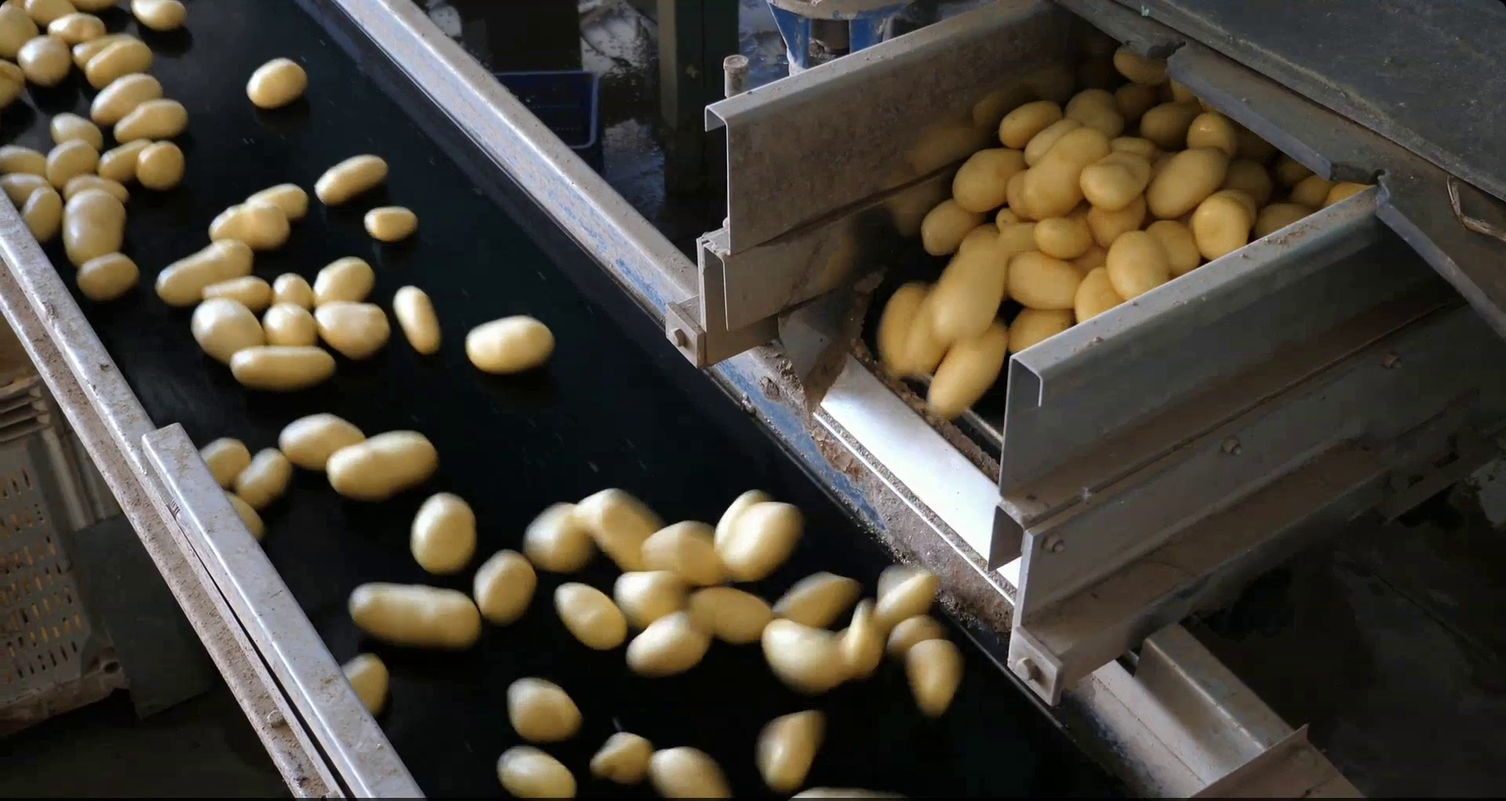potato: (755, 596, 901, 695), (342, 577, 486, 650), (920, 315, 1013, 428), (566, 482, 672, 575), (319, 426, 446, 502), (714, 487, 806, 588), (924, 244, 1013, 347), (1019, 126, 1111, 218), (151, 235, 261, 310), (1144, 139, 1230, 226), (751, 707, 834, 793), (461, 309, 560, 379), (406, 489, 479, 582), (641, 517, 731, 591), (945, 142, 1030, 217), (873, 274, 929, 387), (520, 496, 598, 576), (624, 608, 714, 677), (684, 583, 779, 647), (188, 294, 269, 368), (500, 675, 585, 745), (275, 412, 372, 473), (549, 580, 630, 653), (767, 568, 867, 627), (642, 740, 738, 801), (58, 187, 129, 269), (1003, 246, 1088, 314), (489, 740, 583, 801), (1102, 226, 1173, 306), (470, 544, 540, 625), (227, 340, 337, 391), (908, 635, 969, 724), (1077, 146, 1155, 214), (312, 297, 392, 363), (1192, 187, 1260, 264), (610, 567, 690, 632), (871, 563, 947, 630), (85, 69, 173, 126), (311, 150, 396, 208), (202, 198, 292, 252), (914, 195, 988, 260), (904, 273, 946, 382), (585, 724, 654, 789), (336, 649, 395, 723), (231, 444, 293, 513), (83, 38, 158, 95), (1084, 190, 1154, 251), (310, 252, 380, 312), (69, 251, 145, 306), (243, 54, 313, 112), (110, 96, 191, 146), (390, 282, 443, 357), (1071, 262, 1130, 328), (1145, 212, 1202, 278), (993, 96, 1067, 146), (1060, 85, 1124, 142), (40, 134, 104, 190), (198, 431, 253, 491), (1020, 116, 1087, 165), (1005, 308, 1076, 354), (261, 297, 320, 351), (242, 180, 311, 226), (1030, 213, 1096, 261), (1135, 95, 1197, 146), (90, 135, 155, 183), (67, 31, 144, 71), (133, 137, 187, 193), (16, 32, 71, 85), (197, 273, 275, 310), (17, 183, 64, 243), (221, 487, 268, 546), (1107, 43, 1170, 87), (47, 107, 105, 153), (1183, 109, 1245, 152), (783, 782, 919, 801), (2, 3, 45, 63), (264, 267, 315, 316), (60, 171, 133, 205), (361, 204, 420, 245), (886, 614, 948, 653), (1, 166, 53, 212), (1255, 198, 1313, 238), (124, 1, 193, 34), (1, 139, 51, 182), (1224, 154, 1271, 198), (1105, 129, 1166, 162), (43, 13, 108, 42), (1002, 164, 1031, 223), (2, 56, 28, 114), (957, 221, 999, 256), (1071, 241, 1118, 271), (1291, 173, 1329, 210), (1322, 180, 1372, 208), (24, 1, 77, 26), (1277, 154, 1311, 187), (1151, 141, 1181, 173), (989, 207, 1022, 230), (1165, 80, 1194, 100), (68, 1, 123, 9), (1197, 100, 1214, 113)
